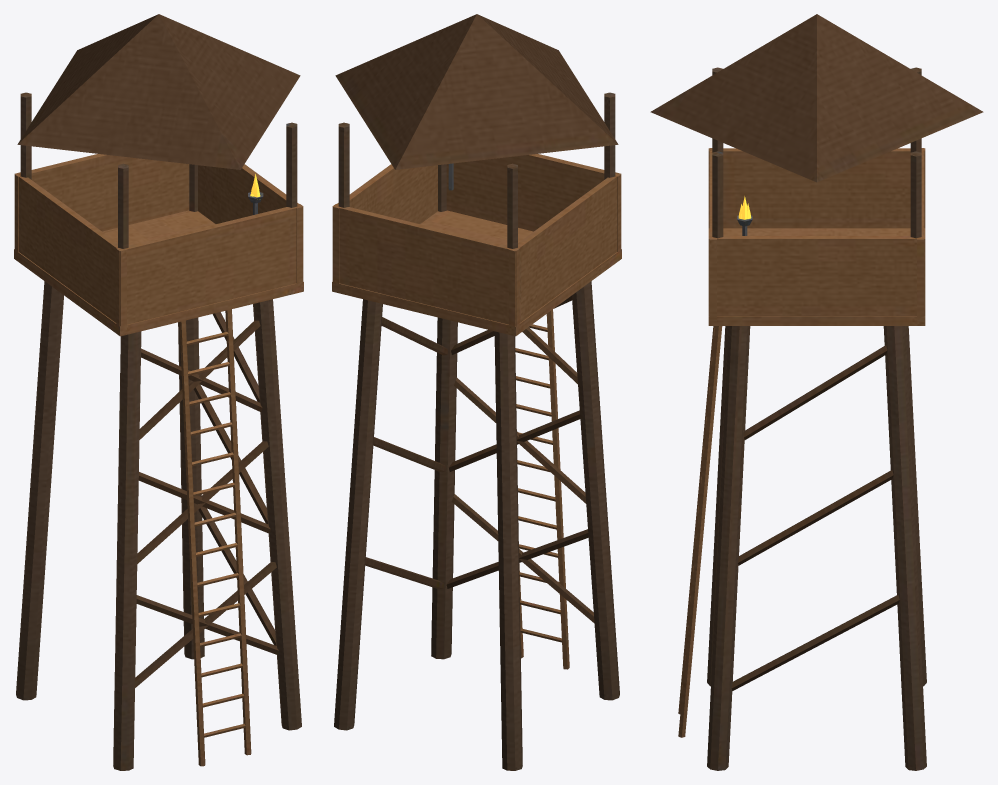
Rendered from stronghold-tower.glb.
The picture shows the model from 3 angles, left to right: view 1: azimuth 30°, elevation 25°; view 2: azimuth 150°, elevation 25°; view 3: azimuth 270°, elevation 25°; orthographic projection.
Visible parts, largest first — view 1: stronghold_tower; view 2: stronghold_tower; view 3: stronghold_tower.
Part boxes in pixels (bbox=[...]): stronghold_tower: bbox=[14, 14, 303, 770]; stronghold_tower: bbox=[332, 14, 621, 770]; stronghold_tower: bbox=[650, 14, 983, 770].
Size of the model in its own units: 3.7 by 8.7 by 3.7.
Materials: 6 (4 with a texture image).
